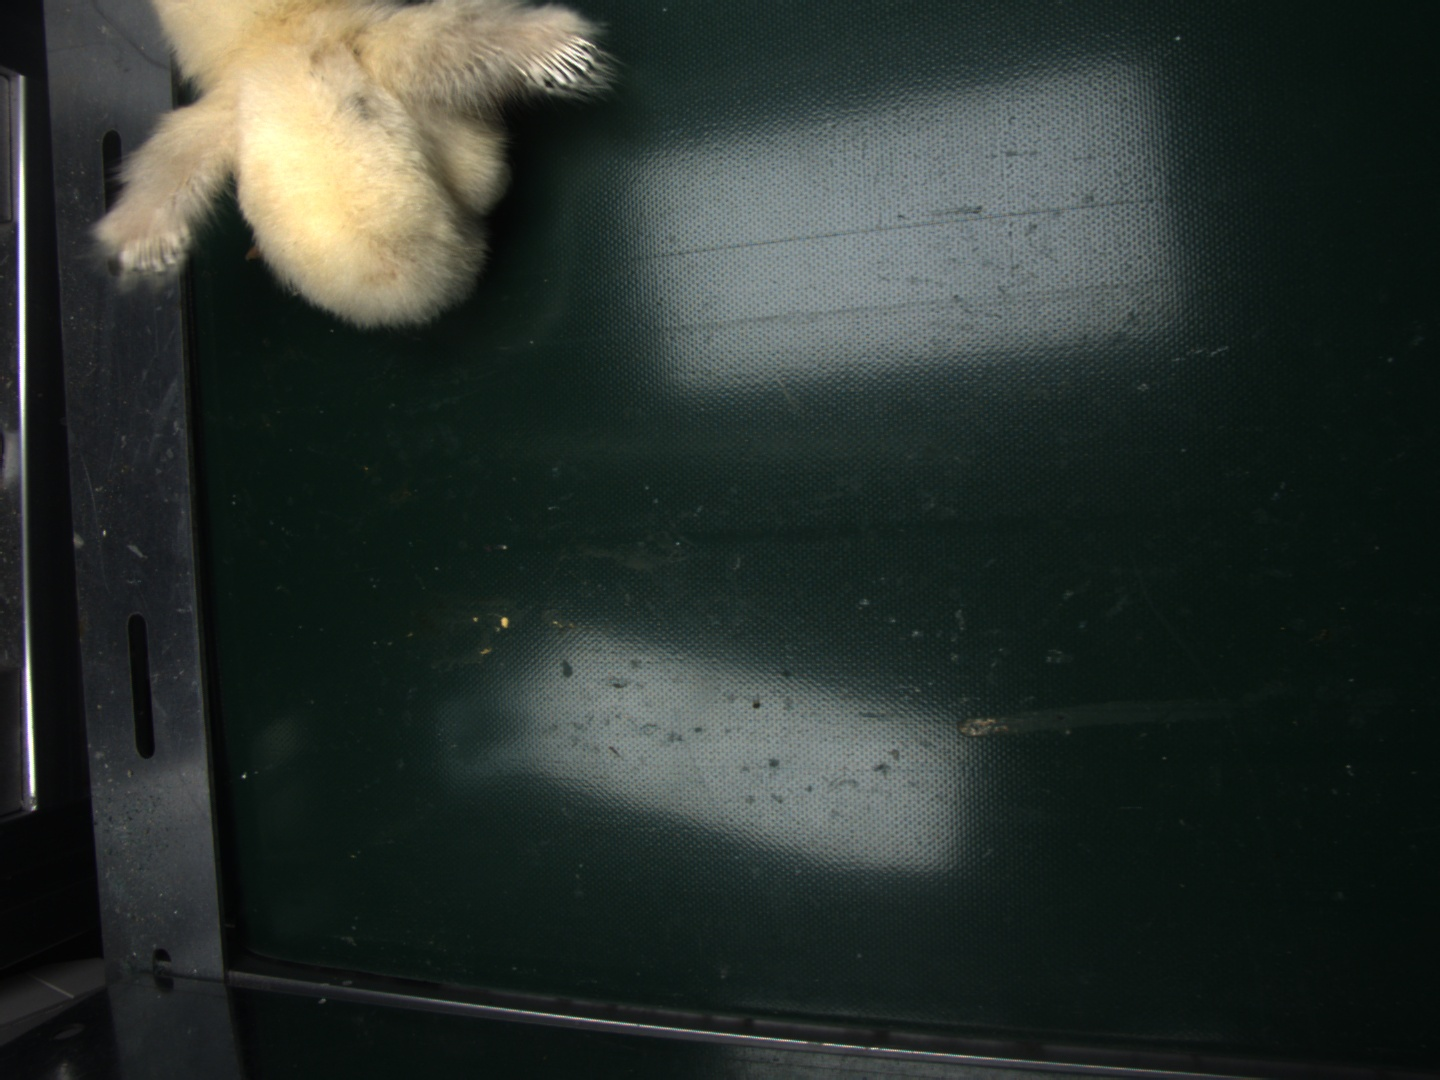male: (523, 31, 596, 88)
